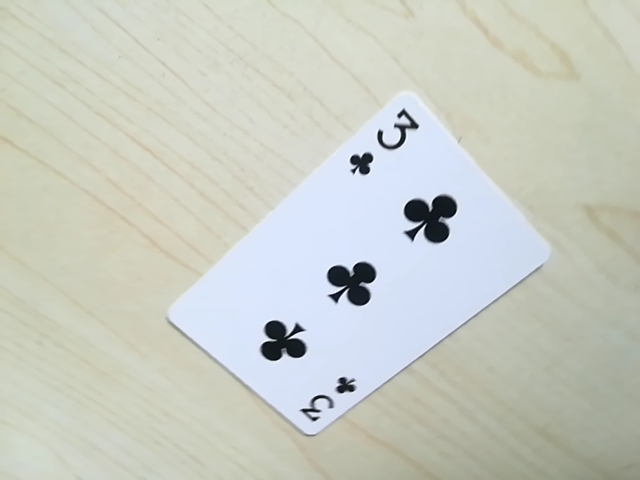mh 3: (343, 104, 418, 180), (296, 376, 359, 431)
